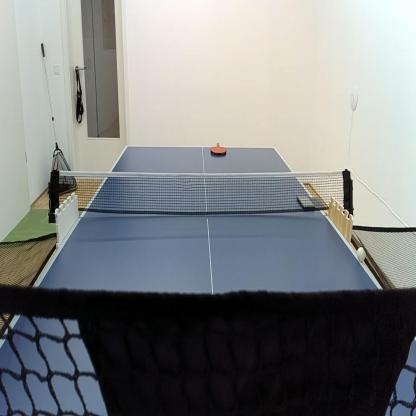Ball: (356, 246, 366, 262)
